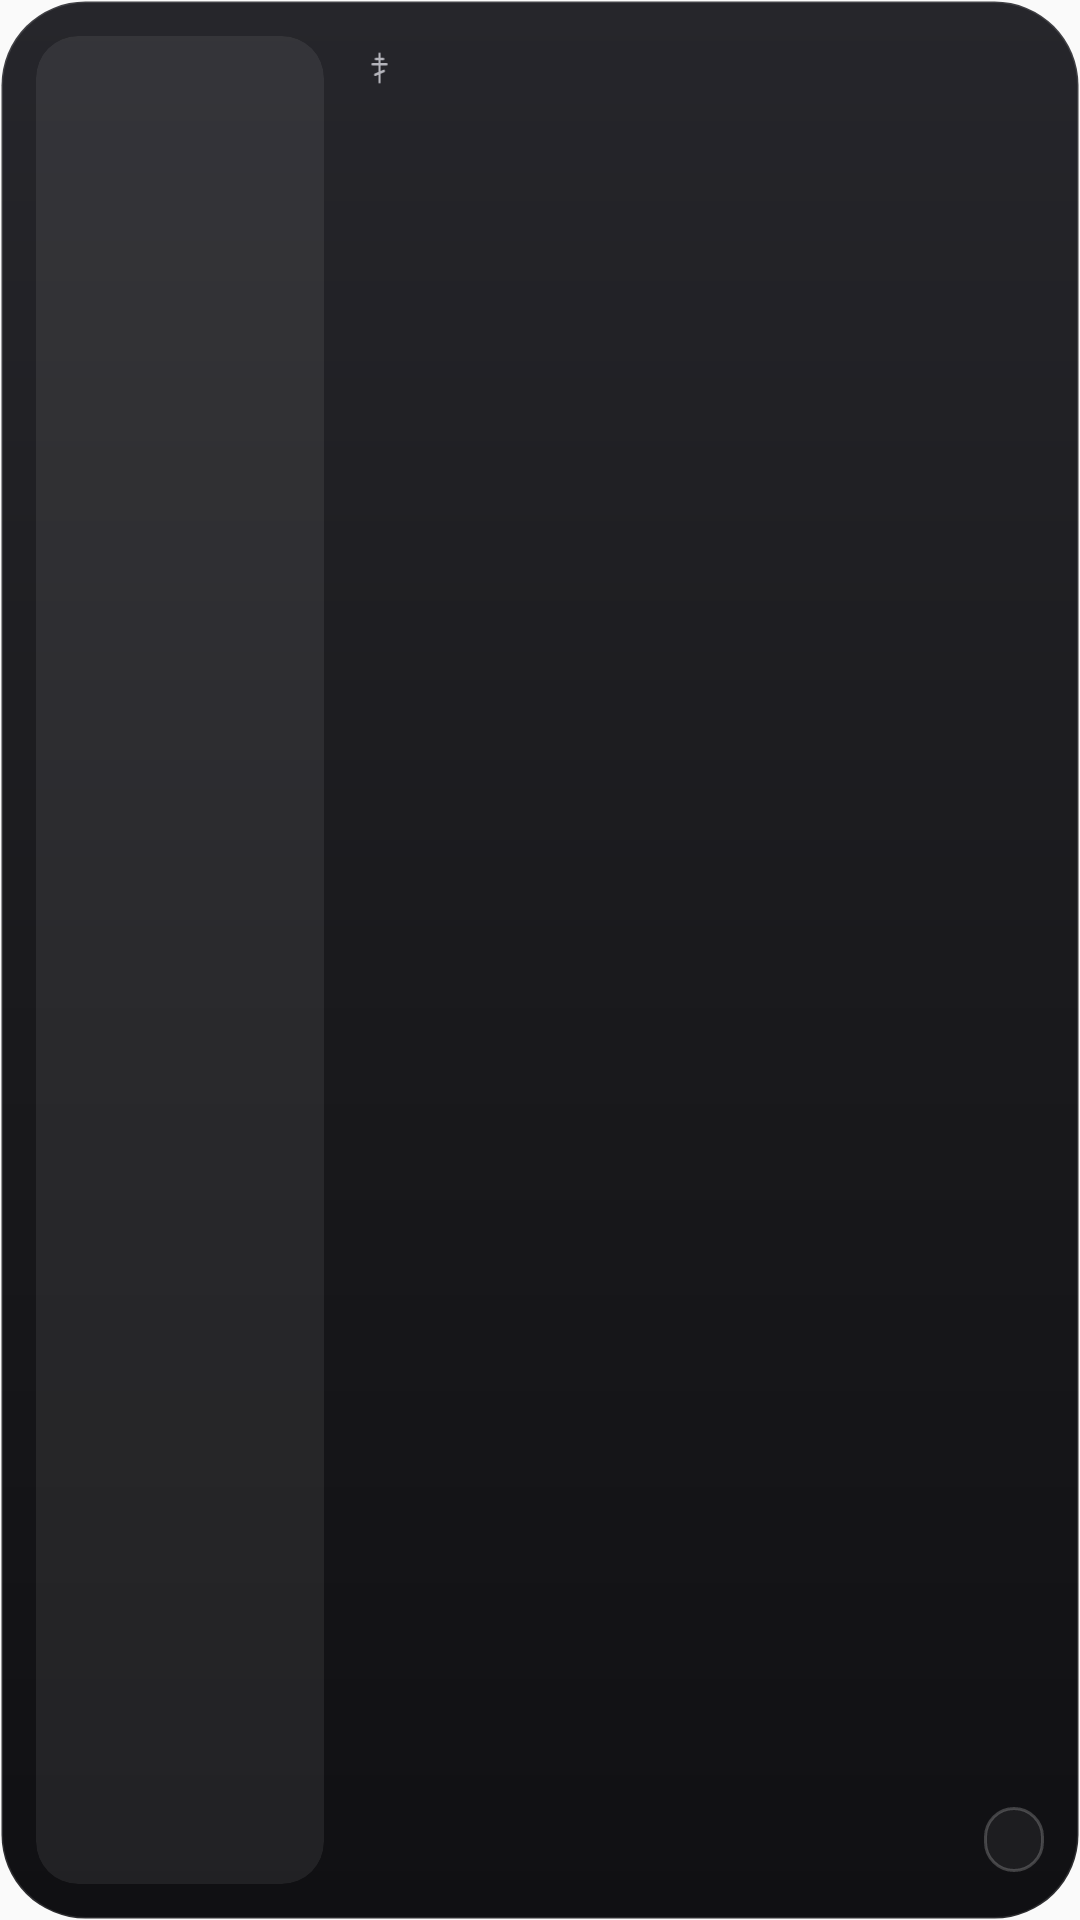

Screen size 1080x1920. Icon name, then its box in pixels as (x1, y1, x2, y2):
widget cross: (371, 52, 388, 84)
